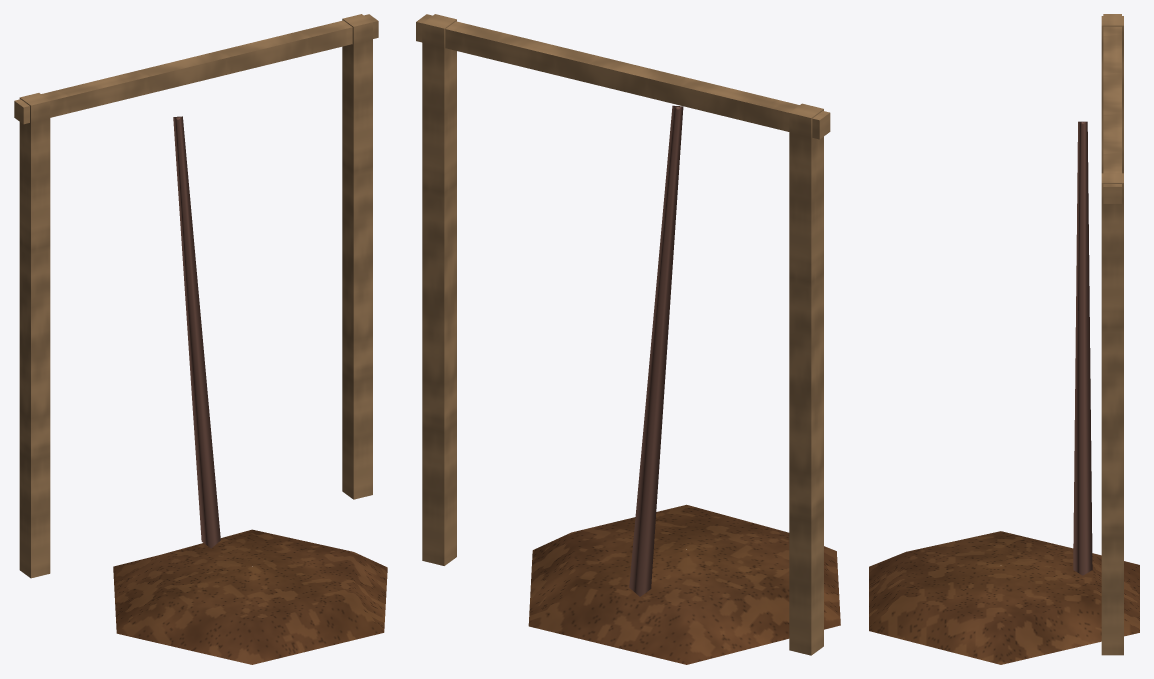
File: plant-grape-4-far.glb
3 views of the same model, side by side, from view 1: azimuth 30°, elevation 25°; view 2: azimuth 150°, elevation 25°; view 3: azimuth 270°, elevation 25° (orthographic). The views are drawn at different scales.
Visible parts, largest first — view 1: plant-grape-4-far; view 2: plant-grape-4-far; view 3: plant-grape-4-far.
Boxes of the visible parts, <box> form: plant-grape-4-far: <box>14,14,387,664</box>; plant-grape-4-far: <box>416,14,840,664</box>; plant-grape-4-far: <box>869,14,1139,664</box>.
Bounding box in the file's own units: 1.1 × 1.48 × 0.7275.
Materials: 3 (2 with a texture image).
